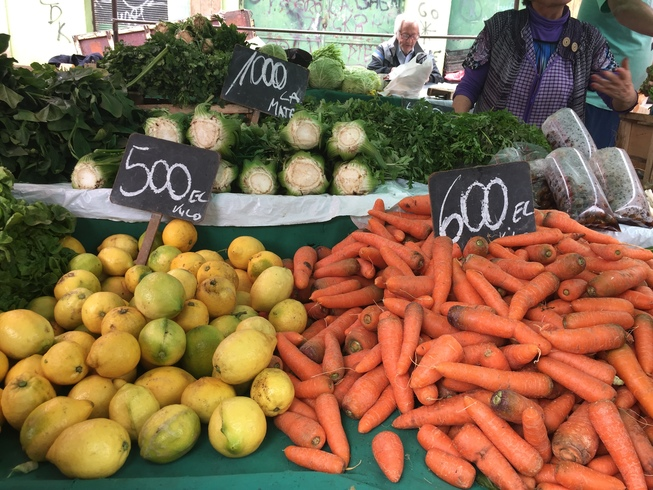precio: (426, 155, 546, 259), (108, 130, 224, 233), (219, 41, 309, 125)
